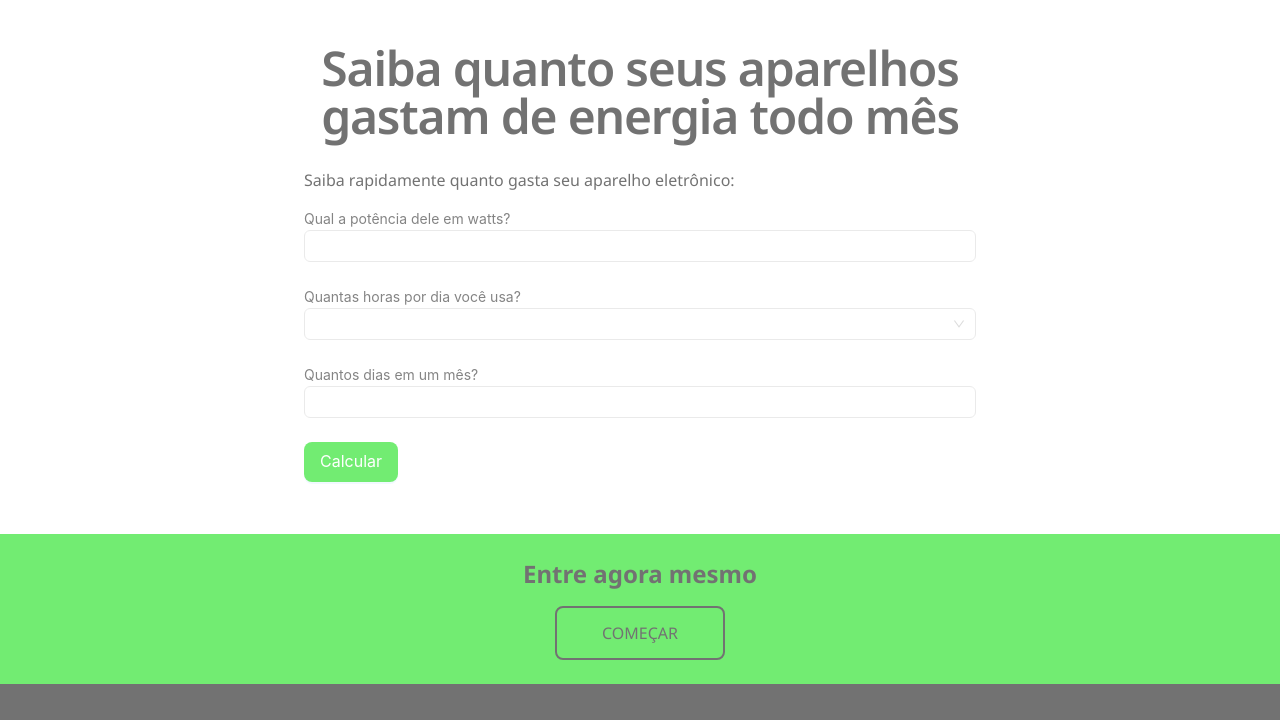
Test case: Landing Page › should redirect to Login page after user clicks on 'Começar' button
Click the link "Começar" at coordinates (640, 633), box [555,606,725,660]
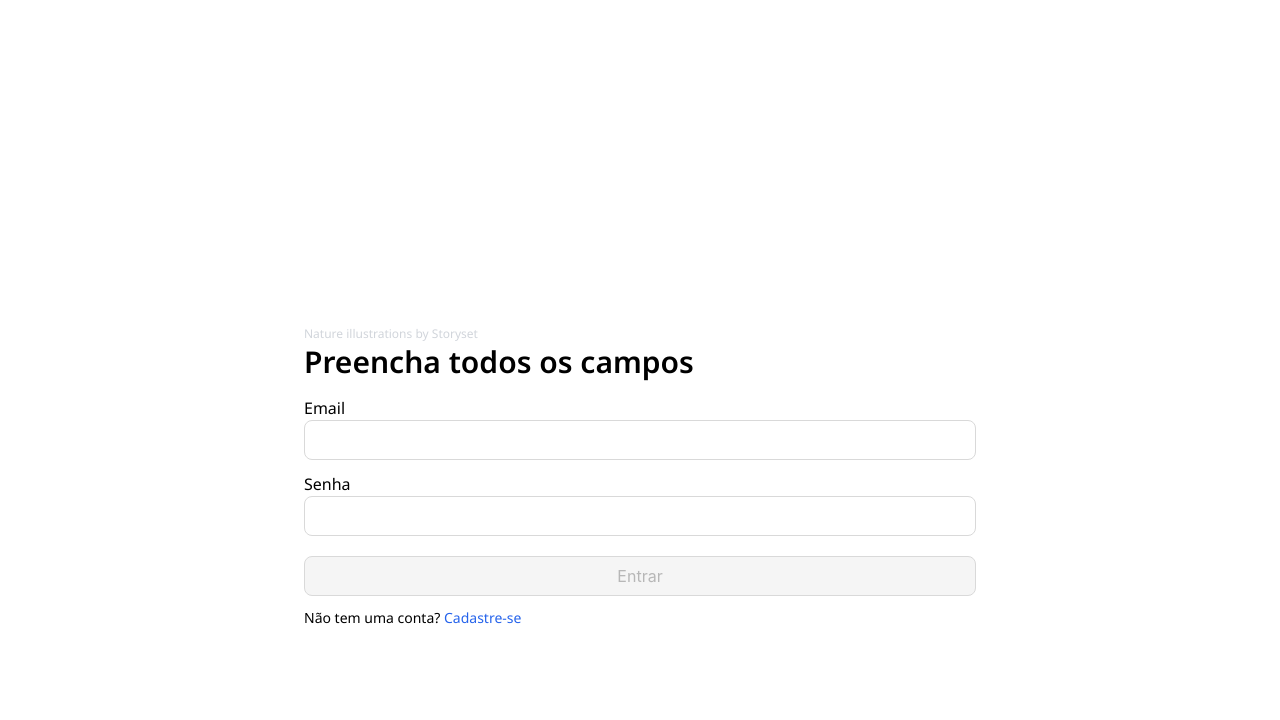
Expected: the heading reads "Preencha todos os campos", [304,341,694,382]
